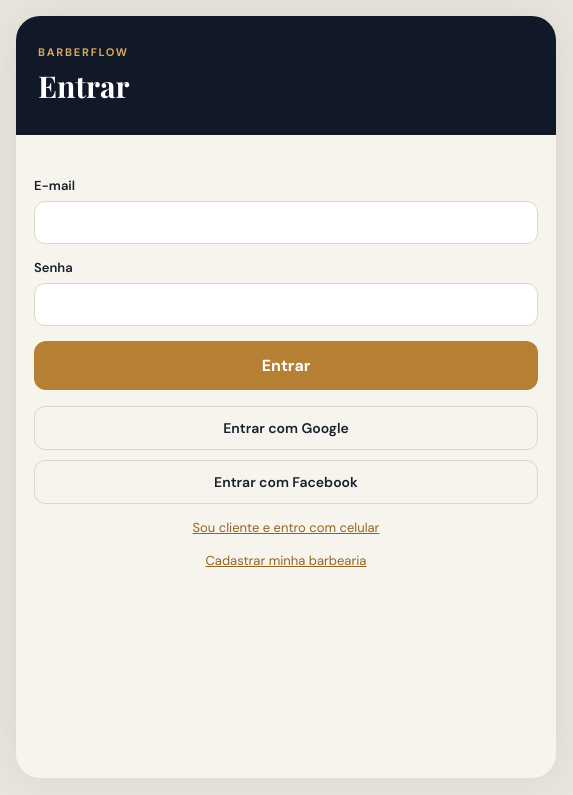
Test case: Login - email mode › shows an error message when login fails
Step 1. Type "gestor@x.com" into the field labelled "E-mail" → (286, 222), box x1=34 y1=201 x2=538 y2=244
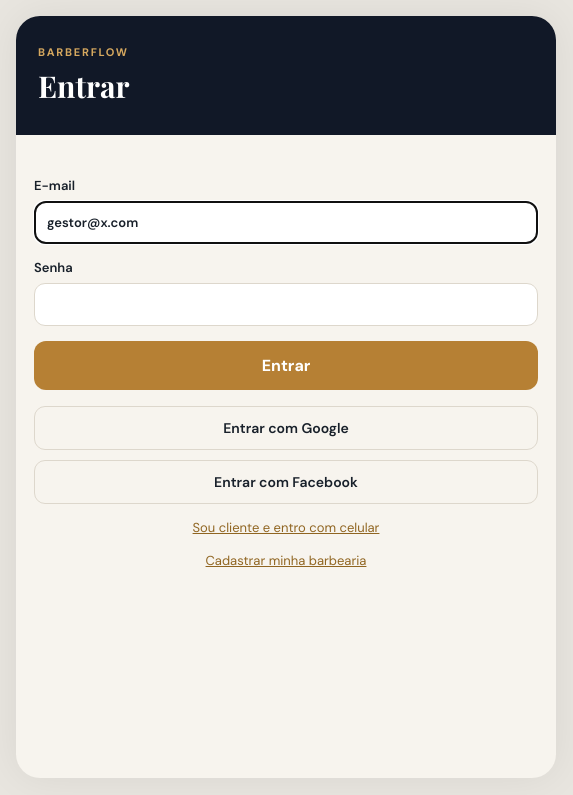
Step 2. Type "wrong" into the password field labelled "Senha" → (286, 304), box x1=34 y1=283 x2=538 y2=326
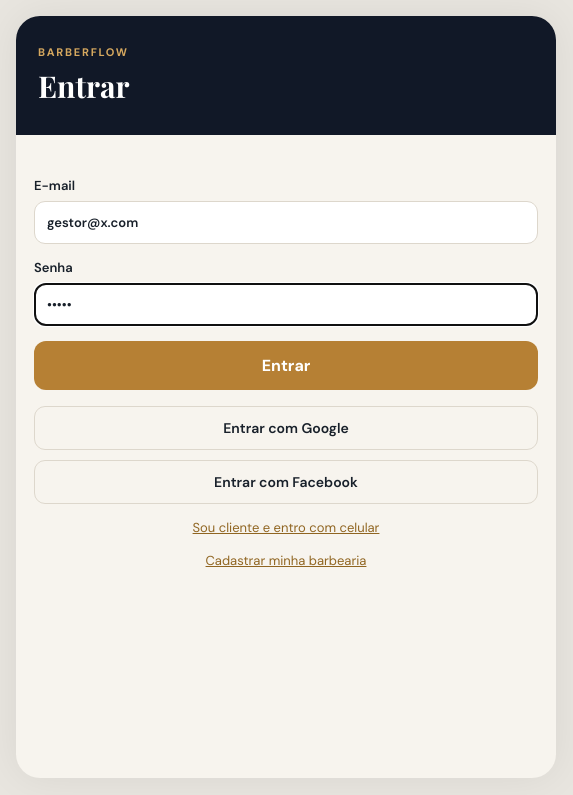
Step 3. Click the button "Entrar" → (286, 366), box x1=34 y1=341 x2=538 y2=390
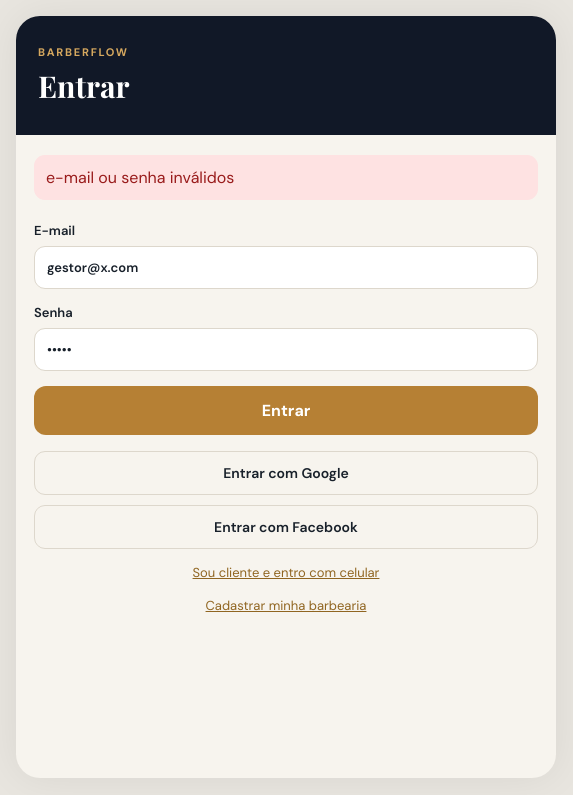
Expected: the message reads "e-mail ou senha inválidos", x1=46 y1=167 x2=234 y2=188
